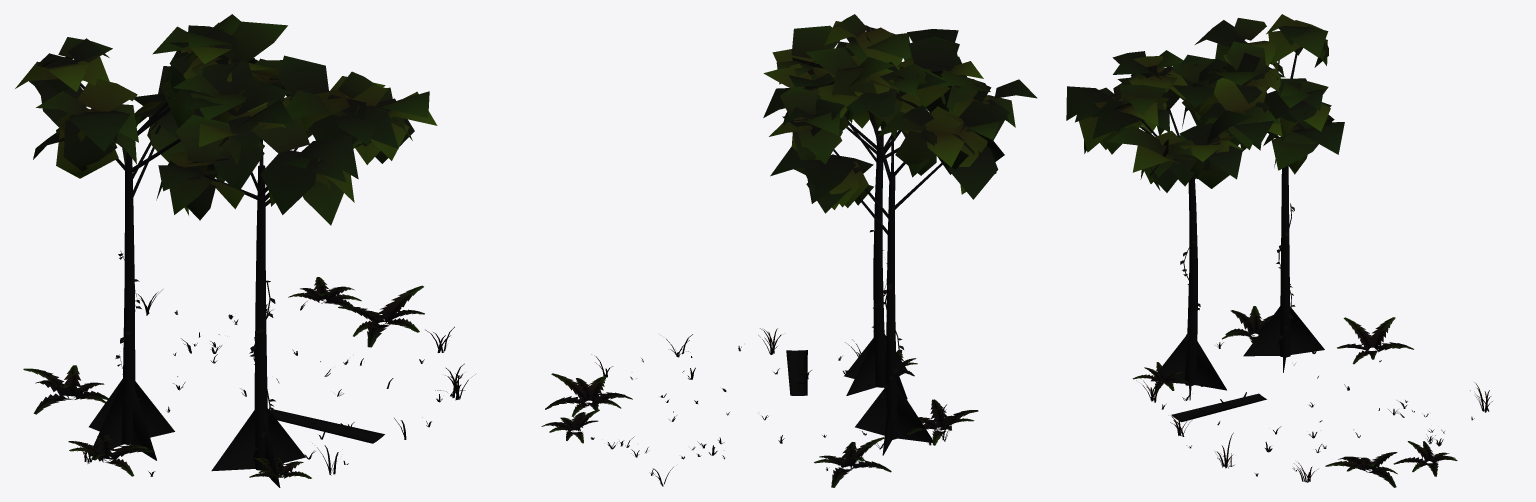
The model's file is patch_clearing.glb.
3 renders of one model, left to right at view 1: azimuth 30°, elevation 25°; view 2: azimuth 150°, elevation 25°; view 3: azimuth 270°, elevation 25°, orthographic. The views are drawn at different scales.
Parts seen in each view (by area): view 1: patch_clearing; view 2: patch_clearing; view 3: patch_clearing.
Part boxes in pixels (<box>): patch_clearing: <box>15,14,475,487</box>; patch_clearing: <box>541,14,1037,487</box>; patch_clearing: <box>1066,14,1492,487</box>.
Bounding box in the file's own units: 14.84 × 11.98 × 15.16.
1 material, 1 textured.
